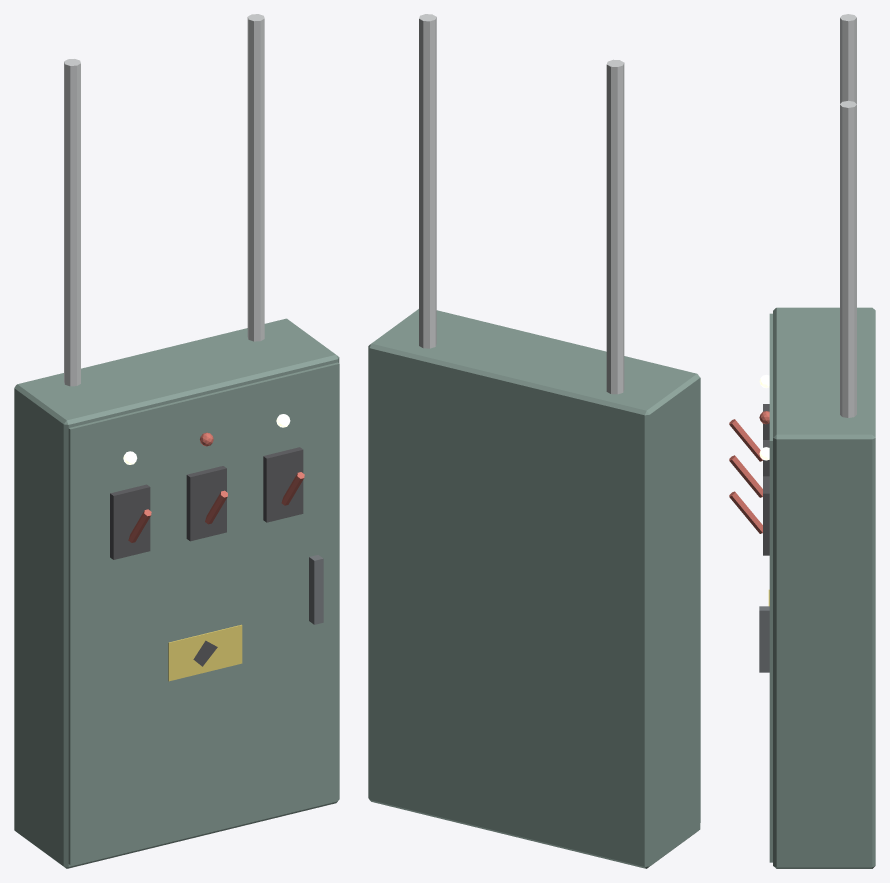
File: el_panel.glb
The picture shows the model from 3 angles, left to right: view 1: azimuth 30°, elevation 25°; view 2: azimuth 150°, elevation 25°; view 3: azimuth 270°, elevation 25°; orthographic projection. The views are drawn at different scales.
Parts seen in each view (by area): view 1: el_panel_frame, el_panel_galv, el_panel_dark, el_panel_yellowp, el_panel_redp, el_panel_steel_d; view 2: el_panel_frame, el_panel_galv; view 3: el_panel_frame, el_panel_galv, el_panel_redp, el_panel_dark, el_panel_steel_d.
Boxes of the visible parts, bbox=[...] form: el_panel_frame: bbox=[14, 318, 339, 868]; el_panel_galv: bbox=[64, 14, 264, 386]; el_panel_dark: bbox=[110, 447, 303, 666]; el_panel_yellowp: bbox=[168, 624, 242, 681]; el_panel_redp: bbox=[128, 432, 304, 542]; el_panel_steel_d: bbox=[309, 555, 323, 624]; el_panel_frame: bbox=[368, 309, 700, 868]; el_panel_galv: bbox=[419, 14, 624, 394]; el_panel_frame: bbox=[769, 307, 875, 868]; el_panel_galv: bbox=[840, 14, 856, 417]; el_panel_redp: bbox=[729, 411, 769, 533]; el_panel_dark: bbox=[763, 404, 769, 555]; el_panel_steel_d: bbox=[759, 606, 769, 672].
Bounding box in the file's own units: 0.9 × 2.4 × 0.4283.
